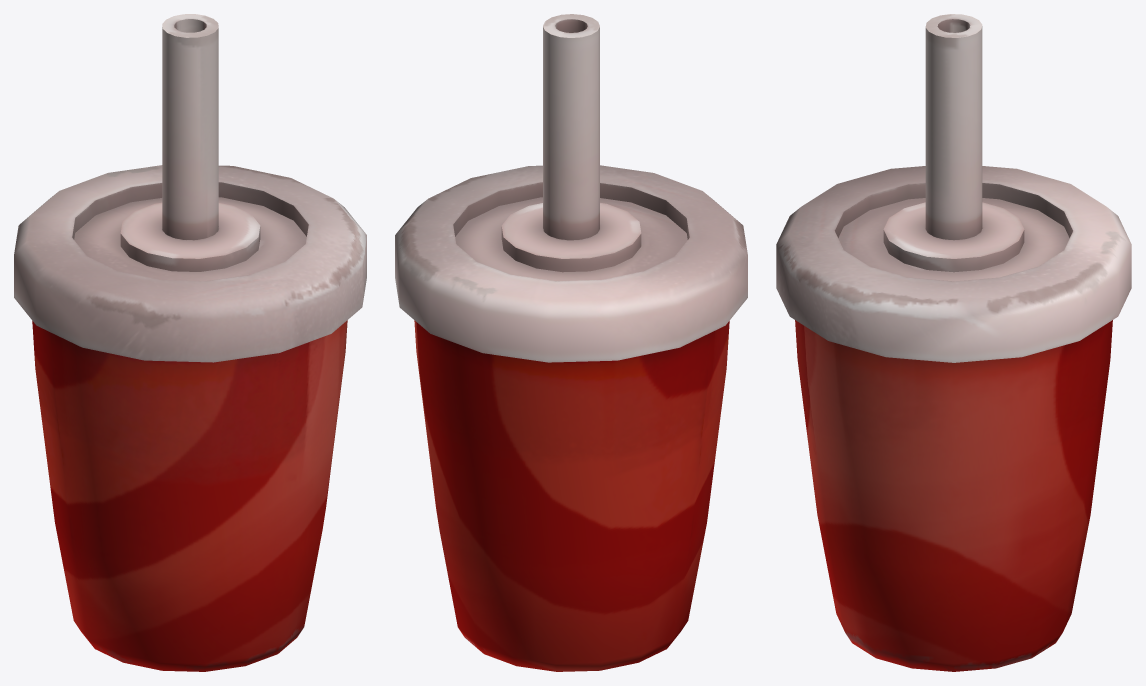
File: Soda.fbx
3 views of the same model, side by side, from view 1: azimuth 30°, elevation 25°; view 2: azimuth 150°, elevation 25°; view 3: azimuth 270°, elevation 25° (orthographic).
Parts seen in each view (by area): view 1: Soda; view 2: Soda; view 3: Soda.
Boxes of the visible parts, left/top/right/bottom form: Soda: left=14, top=14, right=366, bottom=671; Soda: left=395, top=14, right=747, bottom=671; Soda: left=776, top=14, right=1131, bottom=671.
Size of the model in its own units: 19.87 by 37.23 by 19.87.
Materials: 1 (1 with a texture image).
